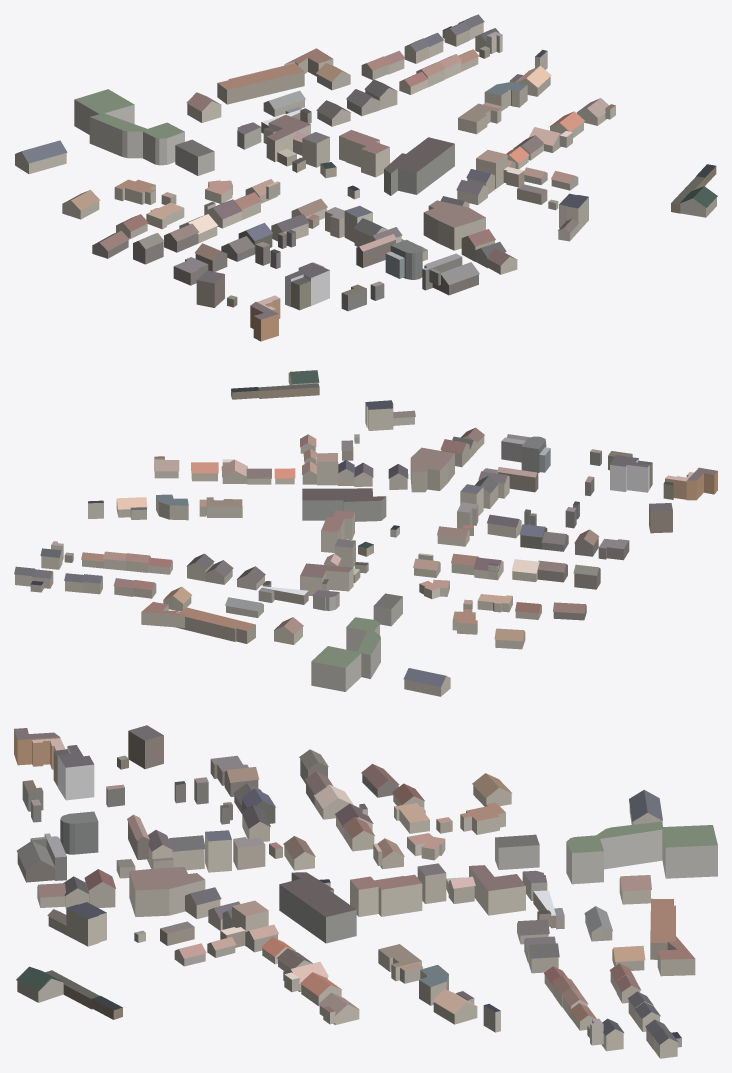
3 views of the same model, one above another, from view 1: azimuth 30°, elevation 25°; view 2: azimuth 150°, elevation 25°; view 3: azimuth 270°, elevation 25° (orthographic). The views are drawn at different scales.
Visible parts, largest first — view 1: tuile; view 2: tuile; view 3: tuile.
Boxes of the visible parts, left/top/right/bottom form: tuile: left=15, top=14, right=717, bottom=341; tuile: left=14, top=370, right=717, bottom=696; tuile: left=14, top=725, right=717, bottom=1058.
Bounding box in the file's own units: 259 × 32.87 × 265.
